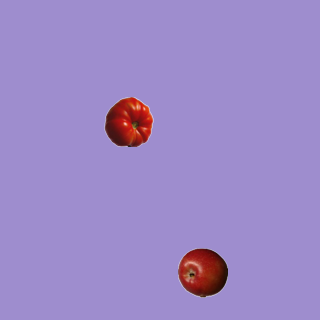Apple Braeburn: (177, 247, 227, 297)
Tomato 3: (103, 96, 153, 146)
